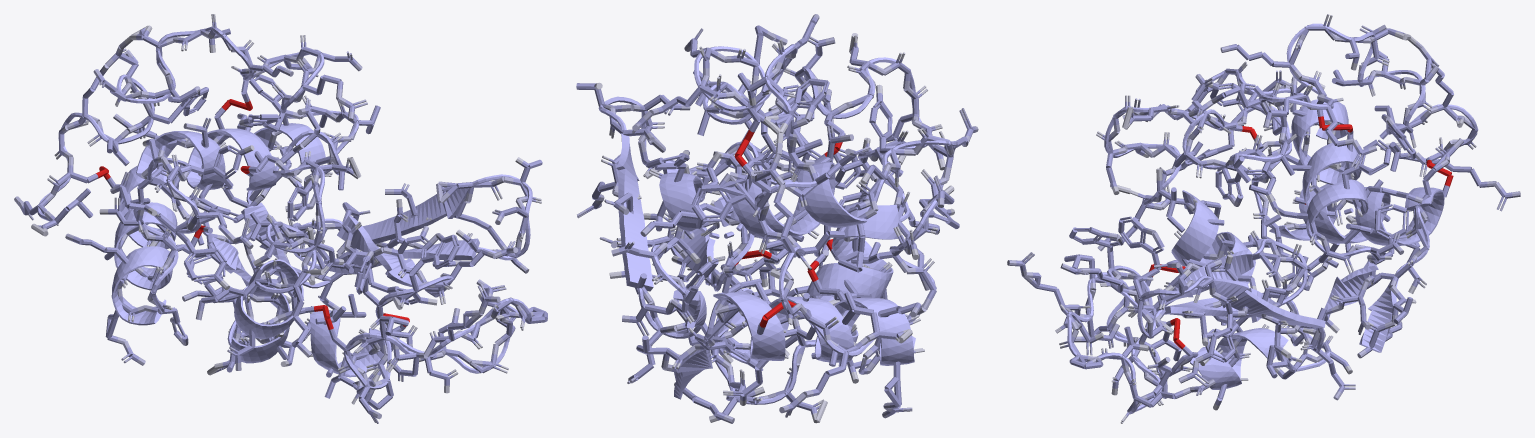
File: 1lyz__cartoon-sticks__b-factor.glb
3 renders of one model, left to right at view 1: azimuth 30°, elevation 25°; view 2: azimuth 150°, elevation 25°; view 3: azimuth 270°, elevation 25°, orthographic. The views are drawn at different scales.
Parts seen in each view (by area): view 1: Renderer Node; view 2: Renderer Node; view 3: Renderer Node.
Part boxes in pixels (x1,y1,x2,y2): Renderer Node: [14, 14, 547, 423]; Renderer Node: [576, 14, 978, 423]; Renderer Node: [1007, 14, 1520, 423].
Size of the model in its own units: 38.95 by 32.98 by 44.29.
